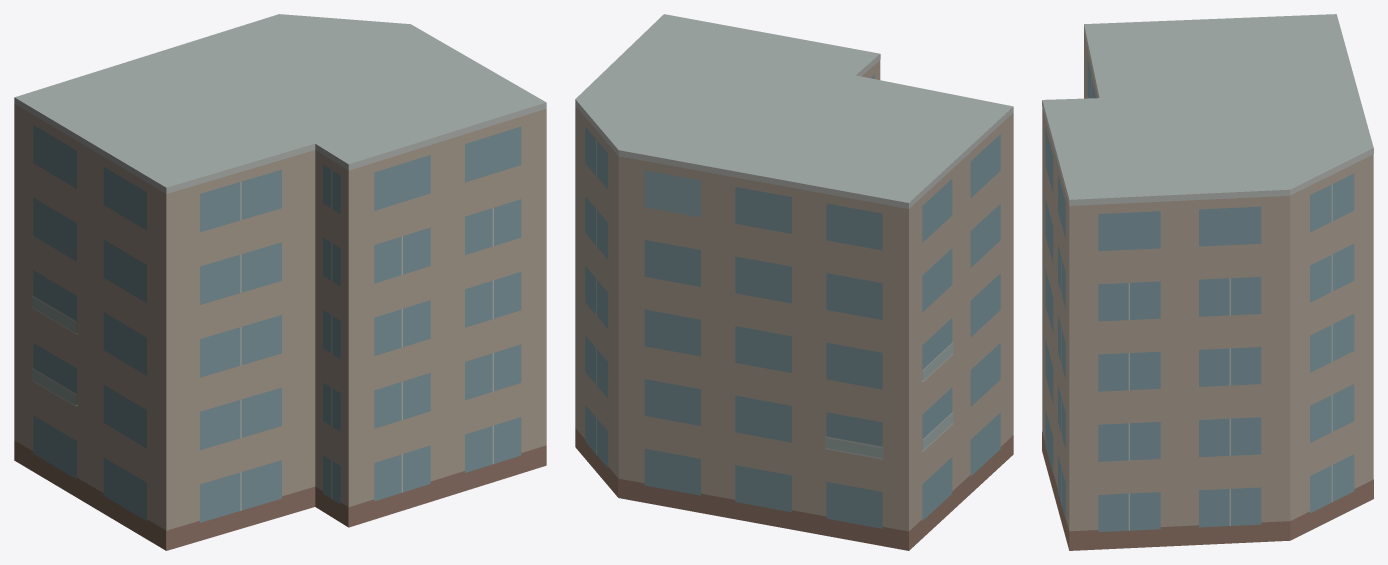
The model's file is survey-upis-33022214.glb.
3 views of the same model, side by side, from view 1: azimuth 30°, elevation 25°; view 2: azimuth 150°, elevation 25°; view 3: azimuth 270°, elevation 25° (orthographic). The views are drawn at different scales.
Visible parts, largest first — view 1: survey-upis-33022214.tmp; view 2: survey-upis-33022214.tmp; view 3: survey-upis-33022214.tmp.
Part boxes in pixels (x1,y1,x2,y2): survey-upis-33022214.tmp: (14, 14, 546, 550); survey-upis-33022214.tmp: (575, 14, 1013, 550); survey-upis-33022214.tmp: (1042, 14, 1373, 550).
Bounding box in the file's own units: 16.02 × 14.1 × 12.08.
